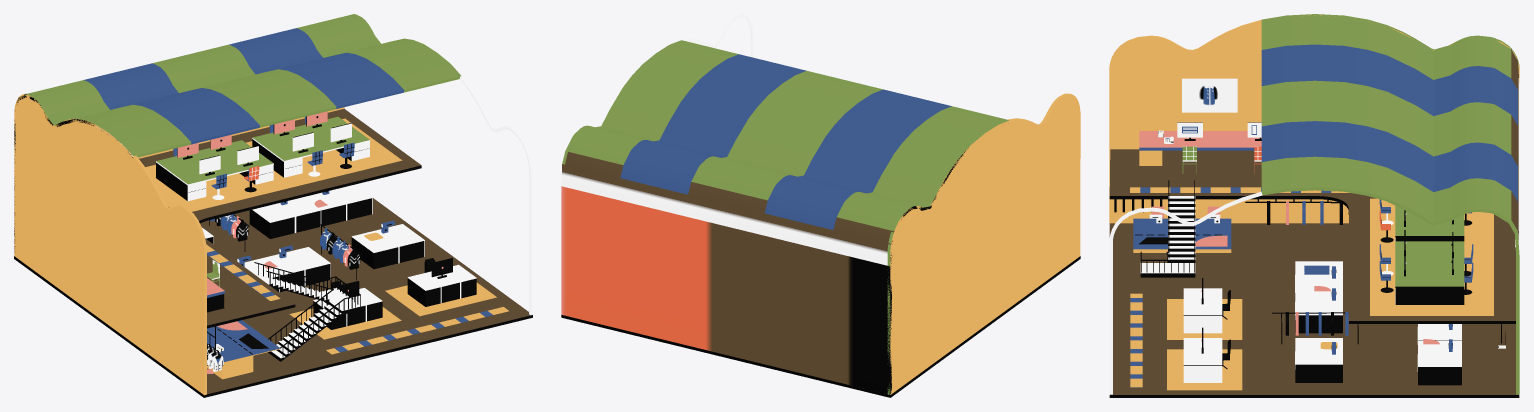
File: 服装厂.fbx
3 renders of one model, left to right at view 1: azimuth 30°, elevation 25°; view 2: azimuth 150°, elevation 25°; view 3: azimuth 270°, elevation 25°, orthographic. The views are drawn at different scales.
Parts seen in each view (by area): view 1: stairs2_2_1, 立方体, 桌子_3, 桌子, table_2, 桌子_8, 桌子_5, 桌子_7, 桌子_6, 桌子_9, 立方体_2_5, 注意标志_1 (+3 smaller); view 2: stairs2_2_1; view 3: stairs2_2_1, 立方体, table_2, 桌子_5, 桌子_3, table_2_4, 桌子_8, 桌子_7, 立方体_2_2, 立方体_2_5, 桌子_9, 桌子_6 (+5 smaller).
Boxes of the visible parts, x1,y1,x2,y2 form: stairs2_2_1: (14,14,532,397); 立方体: (145,118,402,211); 桌子_3: (249,184,372,238); 桌子: (156,140,273,201); table_2: (252,116,370,177); 桌子_8: (351,224,424,269); 桌子_5: (244,247,330,292); 桌子_7: (207,320,280,379); 桌子_6: (407,264,476,306); 桌子_9: (313,288,382,329); 立方体_2_5: (385,282,496,316); 注意标志_1: (326,307,508,354); stairs2_2_1: (561,14,1080,397); stairs2_2_1: (1109,14,1519,397); 立方体: (1370,198,1493,315); table_2: (1395,241,1464,304); 桌子_5: (1295,261,1342,333); 桌子_3: (1417,324,1461,385); table_2_4: (1139,131,1261,165); 桌子_8: (1295,338,1342,382); 桌子_7: (1133,218,1231,252); 立方体_2_2: (1182,78,1237,112); 立方体_2_5: (1167,349,1242,390); 桌子_9: (1183,288,1222,333); 桌子_6: (1183,338,1222,382).
Size of the model in its own units: 1800 by 1021 by 1801.
